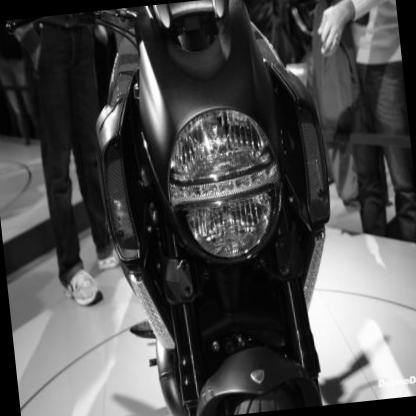moto: (50, 1, 405, 416)
